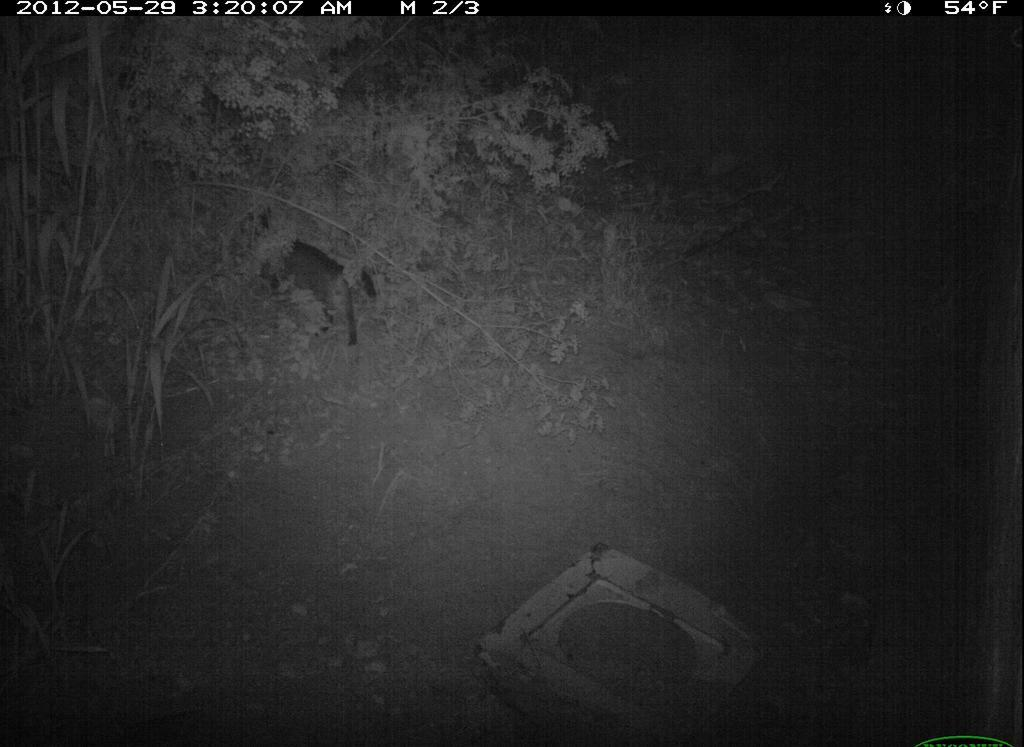cat: (255, 213, 377, 356)
